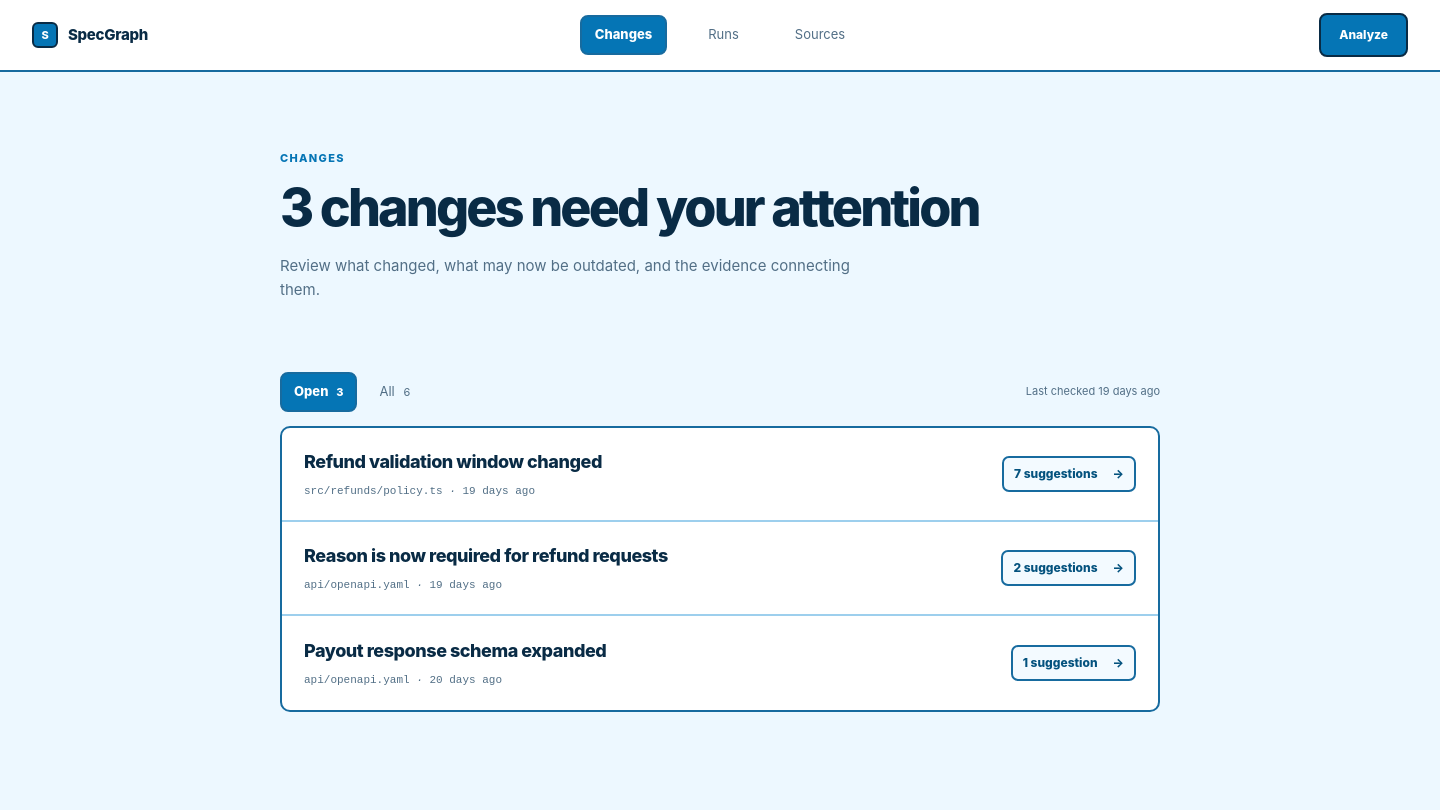
Test: SpecGraphApp › keeps long suggestion lists scannable until the user asks for more
The width and height of the screenshot is (1440, 810).
What coordinates should you click on to do the following:
click the button "Refund validation window changed"
I would click on:
 (453, 461)
Its box is [282,428,1158,522].
(page scrolled)
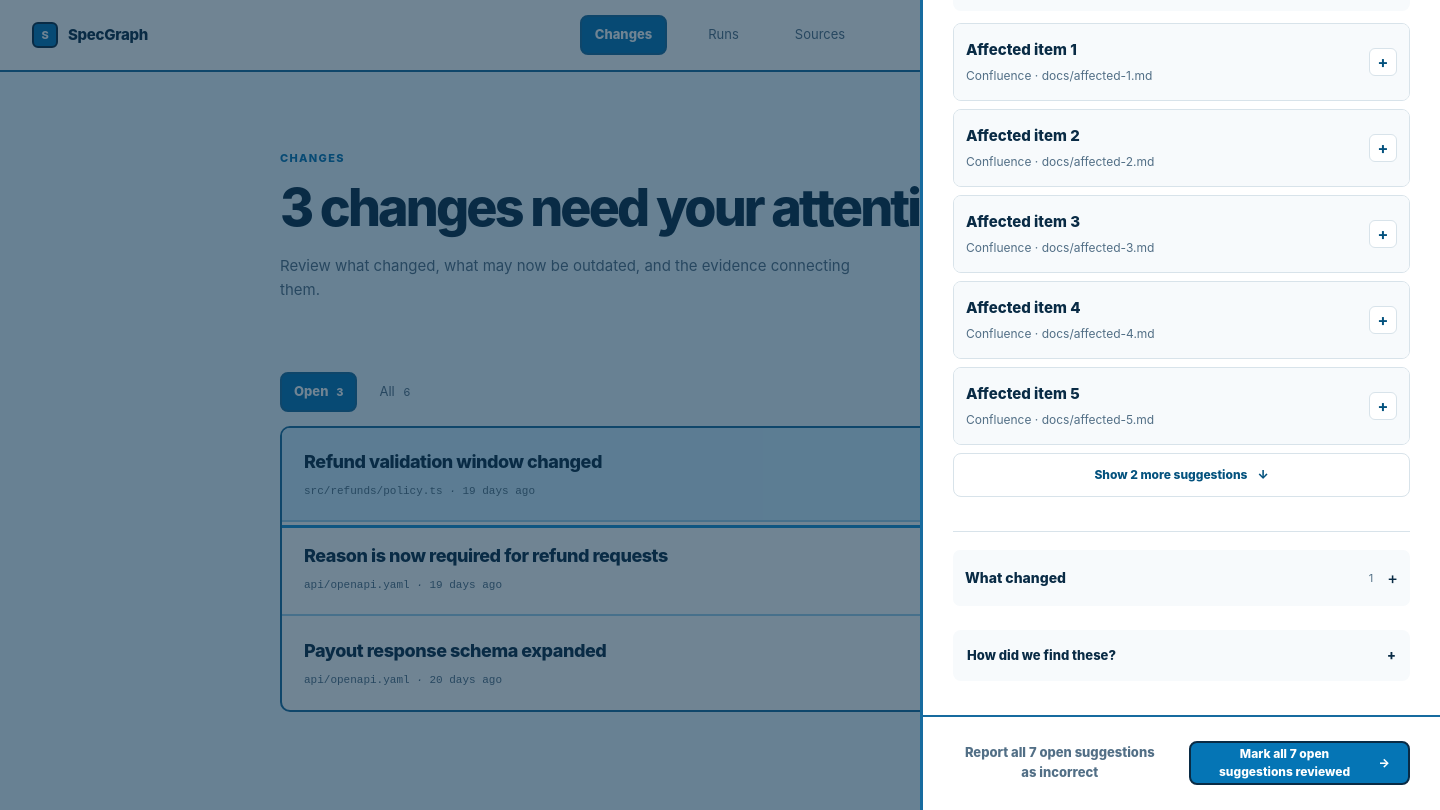
Expected: the button "Affected item 6" is not shown
Now the button "Affected item 5 Confluence · docs/affected-5.md +" is shown, box [954,368,1409,444]
What coordinates should you click on to do the following:
click the button "Show 2 more suggestions ↓"
I would click on:
 (1182, 475)
Its box is [953,453,1410,497].
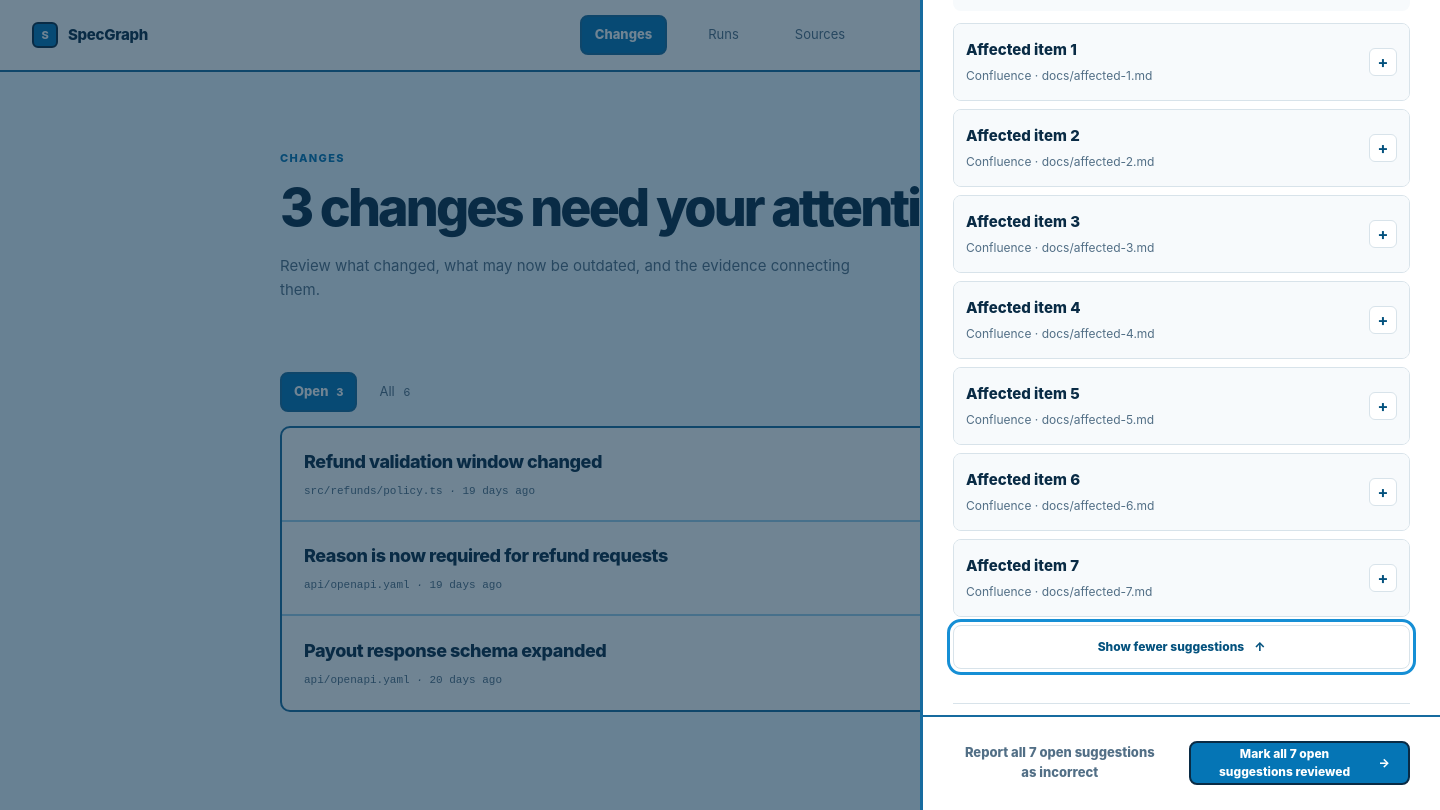
Now the button "Affected item 7 Confluence · docs/affected-7.md +" is shown, box [954,540,1409,616]
What coordinates should you click on to do the following:
click the button "Show fewer suggestions ↑"
I would click on:
 (1182, 647)
Its box is [953,625,1410,669].
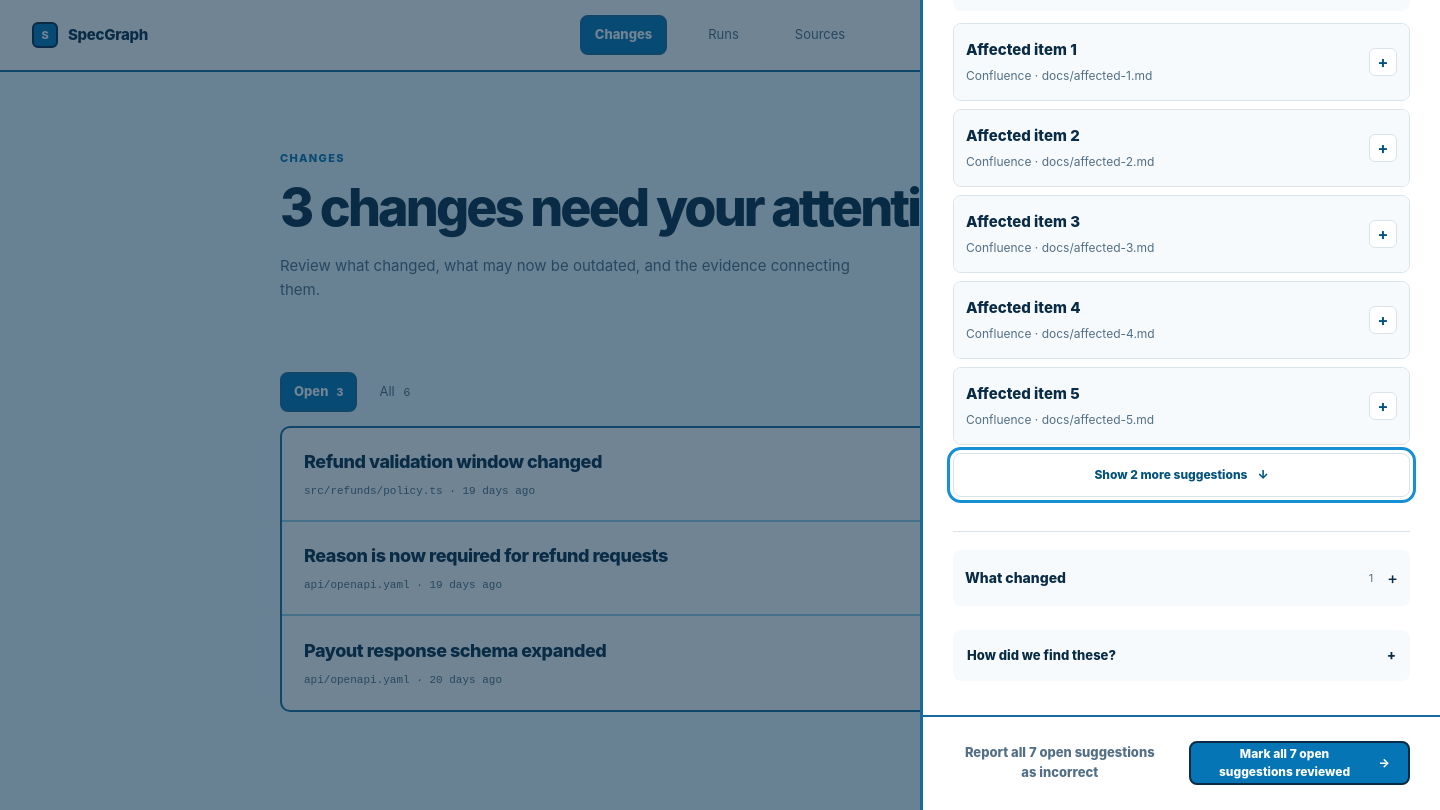
Now the button "Affected item 6" is gone
